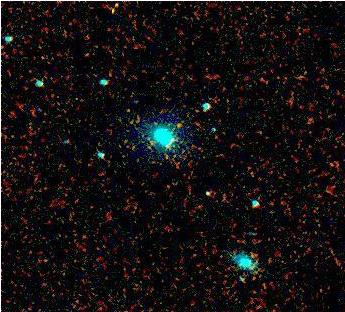star: (158, 113, 188, 143)
